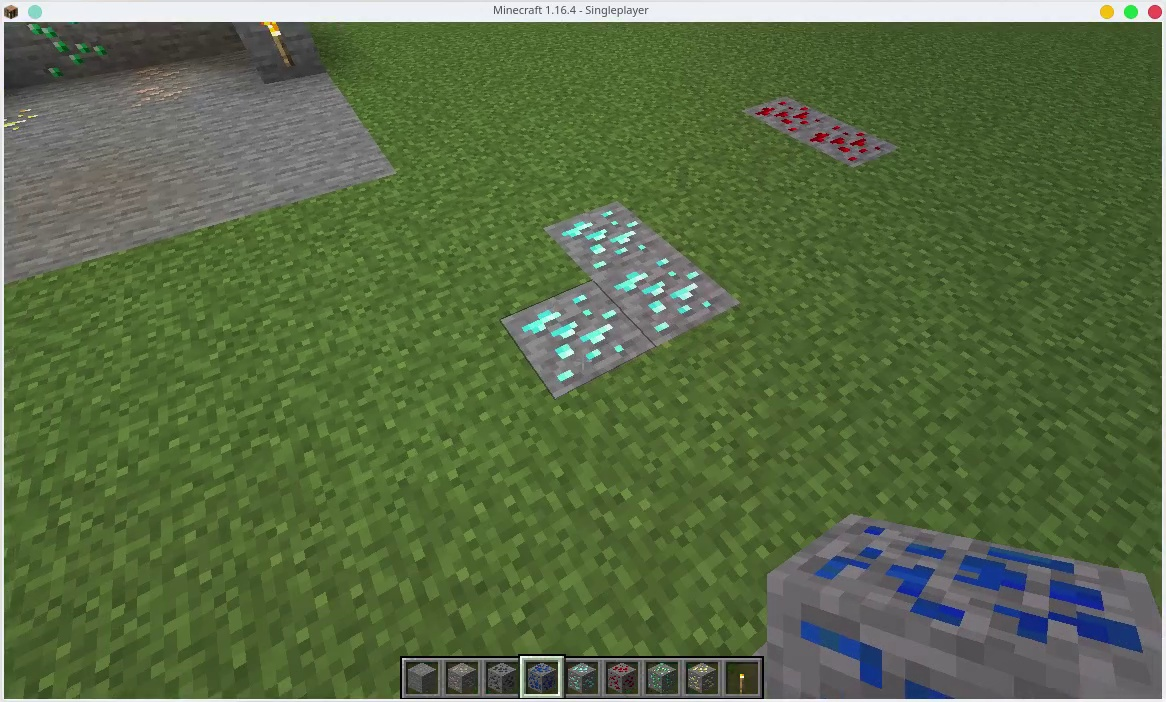gold: (1, 105, 37, 131), (687, 662, 717, 693)
